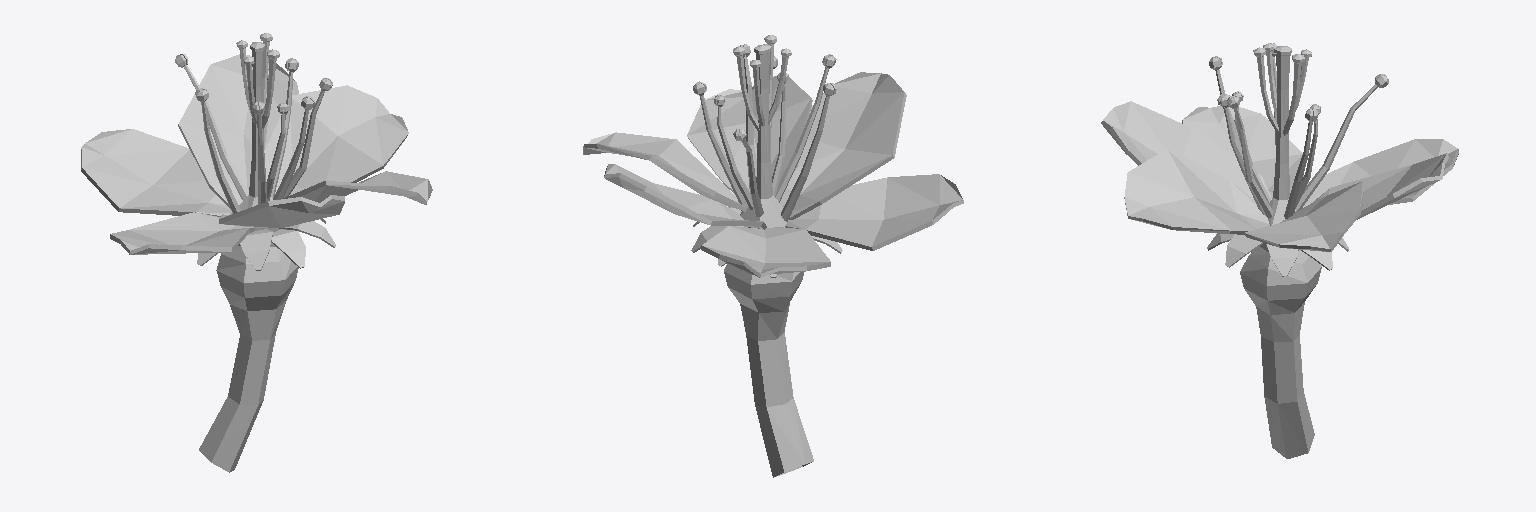
Rendered from sharon.obj.
3 renders of one model, left to right at view 1: azimuth 30°, elevation 25°; view 2: azimuth 150°, elevation 25°; view 3: azimuth 270°, elevation 25°, orthographic.
Parts seen in each view (by area): view 1: flower; view 2: flower; view 3: flower.
Part boxes in pixels (left/top/right/bottom): flower: left=81, top=33, right=432, bottom=472; flower: left=583, top=35, right=963, bottom=477; flower: left=1101, top=43, right=1458, bottom=458.
Bounding box in the file's own units: 1.52 × 1.91 × 1.47.